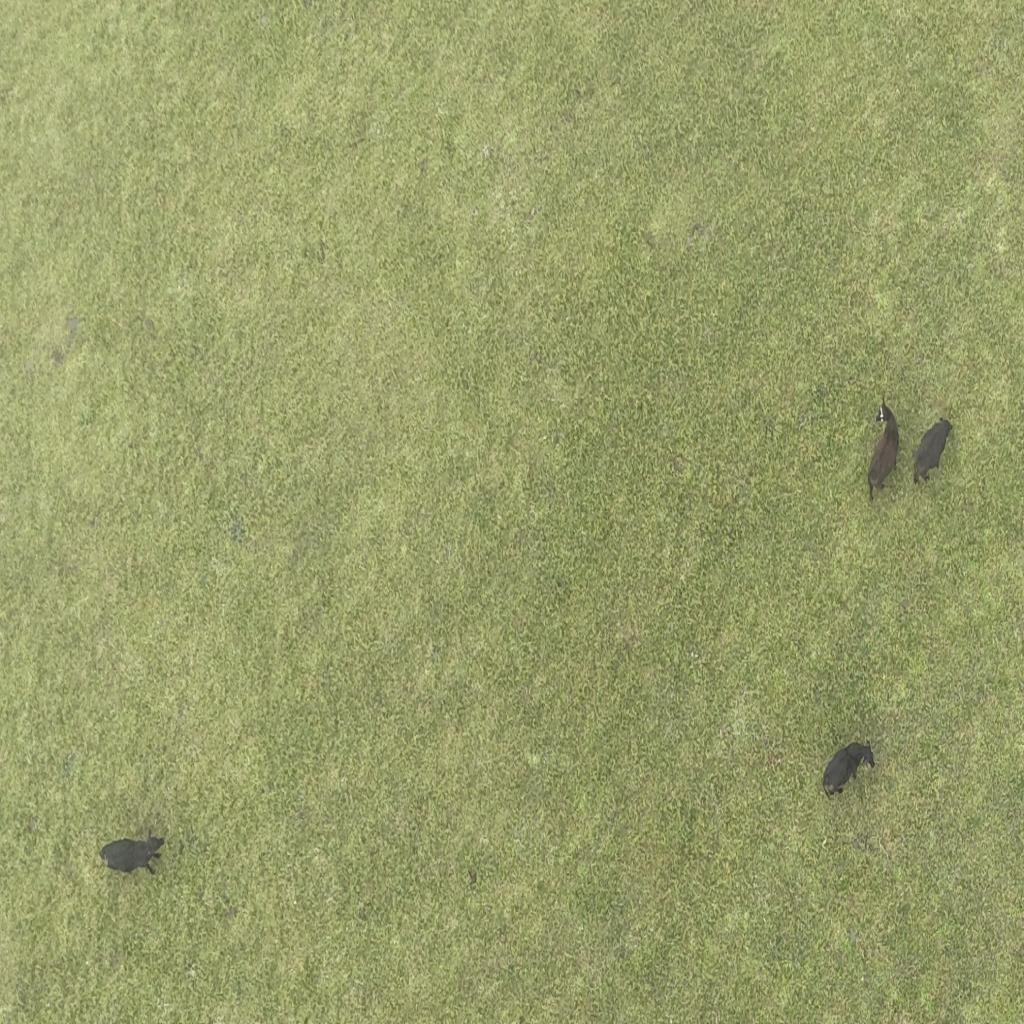cow: (908, 410, 955, 492), (821, 735, 876, 804), (96, 829, 167, 879), (868, 395, 900, 501)
